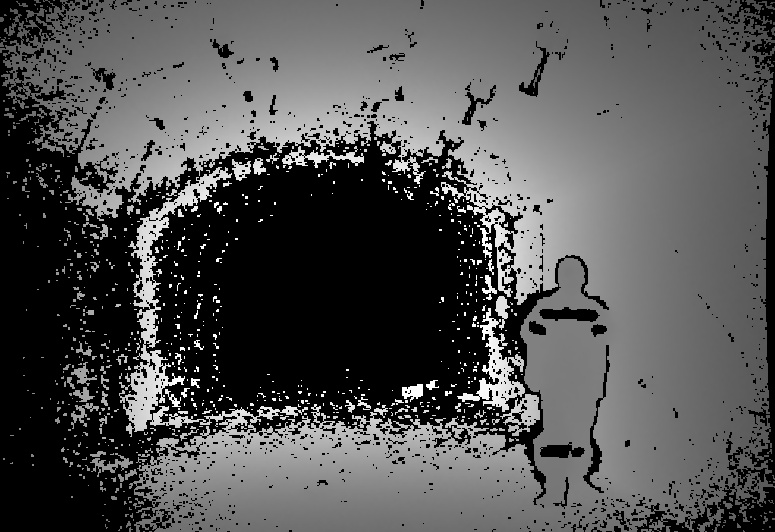person: (521, 258, 609, 506)
